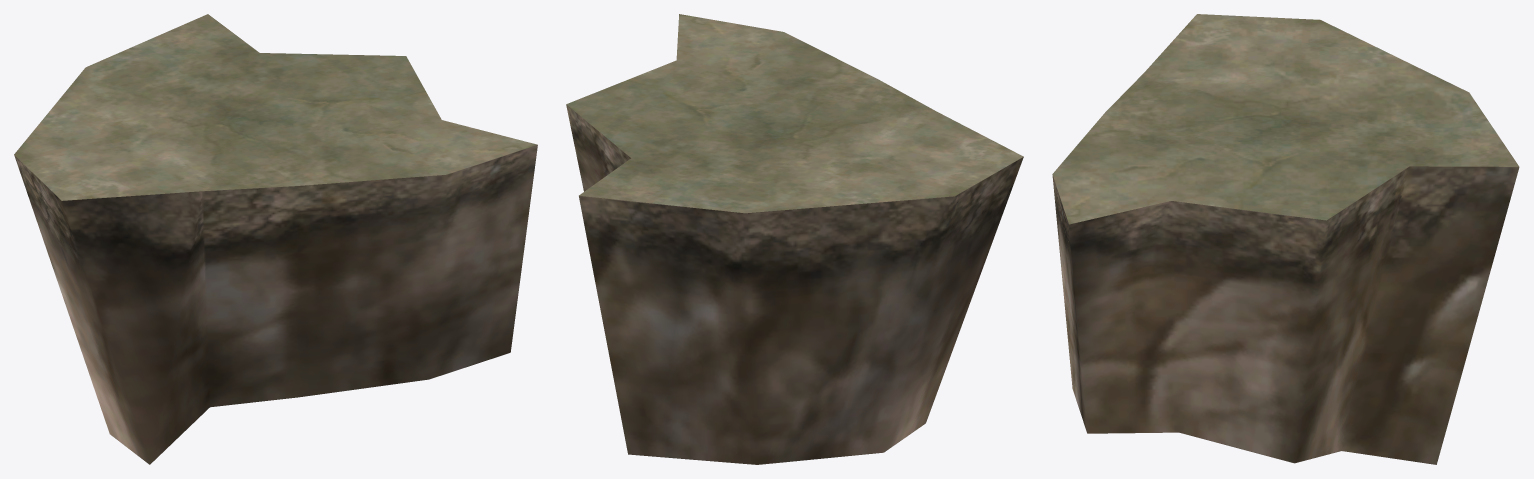
Rendered from ANIMATEDINSTANCES_ROCKFALL_03__BA.fbx.
3 renders of one model, left to right at view 1: azimuth 30°, elevation 25°; view 2: azimuth 150°, elevation 25°; view 3: azimuth 270°, elevation 25°, orthographic. The views are drawn at different scales.
Visible parts, largest first — view 1: ANIMATEDINSTANCES_ROCKFALL_03__BA; view 2: ANIMATEDINSTANCES_ROCKFALL_03__BA; view 3: ANIMATEDINSTANCES_ROCKFALL_03__BA.
Part boxes in pixels (box(x1,y1,x2,y2)): ANIMATEDINSTANCES_ROCKFALL_03__BA: box(14, 14, 537, 464); ANIMATEDINSTANCES_ROCKFALL_03__BA: box(566, 14, 1023, 464); ANIMATEDINSTANCES_ROCKFALL_03__BA: box(1052, 14, 1519, 464).
Bounding box in the file's own units: 16272 × 10936 × 15253.
2 materials, 2 textured.
